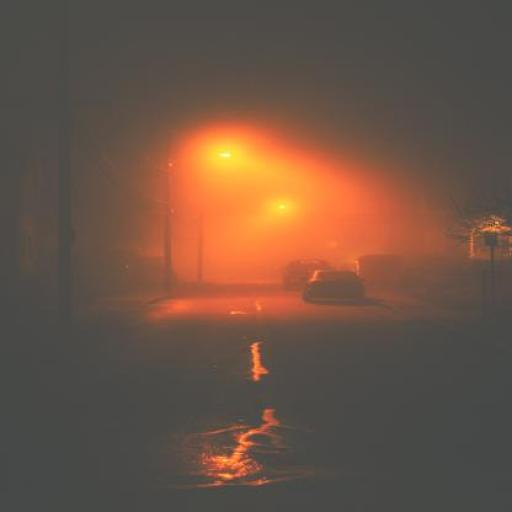street light: (197, 154, 232, 288)
